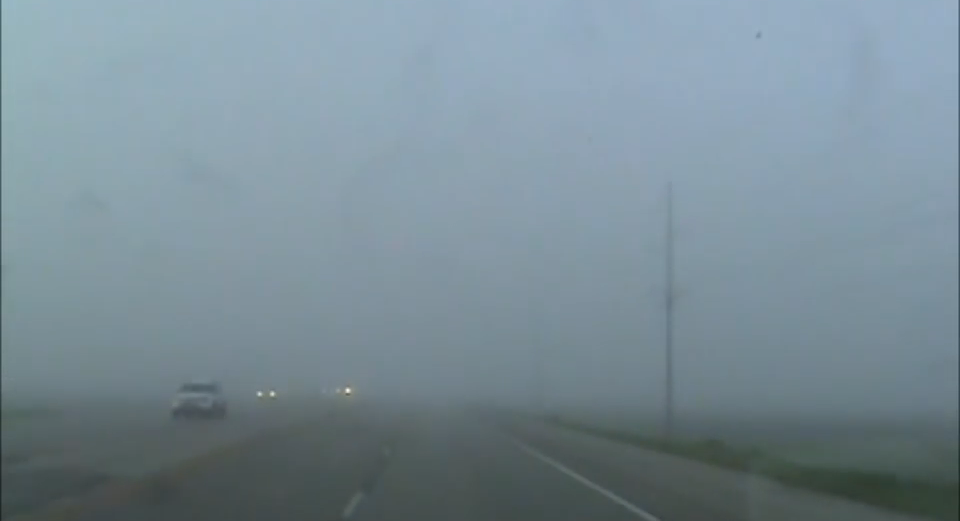car: (168, 380, 225, 418), (324, 379, 358, 404), (255, 381, 285, 405)
